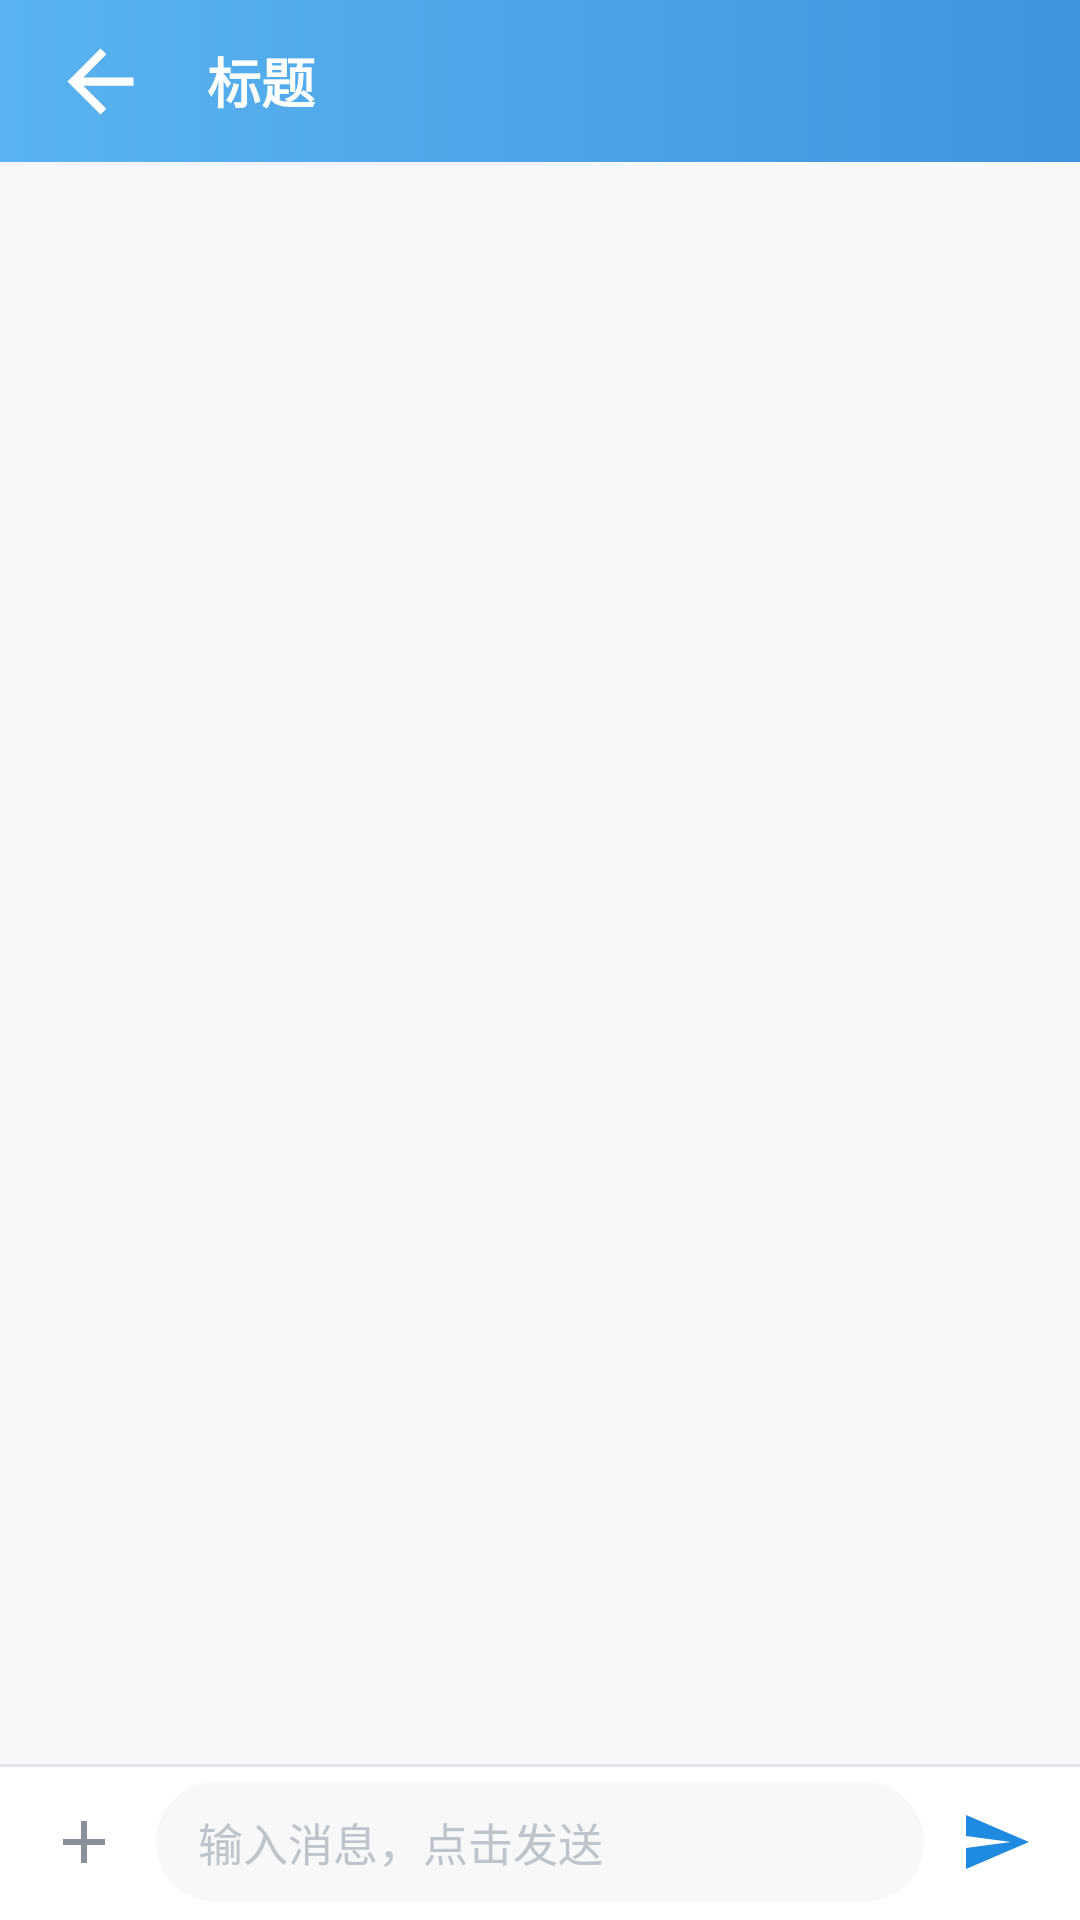

Icons on this 1080w x 1920h Android screen, each with the point to tap as point (x, y):
更多: point (84, 1842)
返回: point (100, 81)
